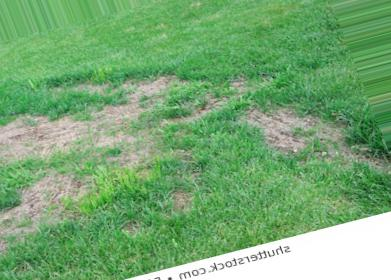patch: (97, 81, 165, 140), (249, 108, 318, 150), (5, 118, 85, 152), (22, 173, 71, 223), (188, 91, 228, 115), (116, 150, 150, 176)
